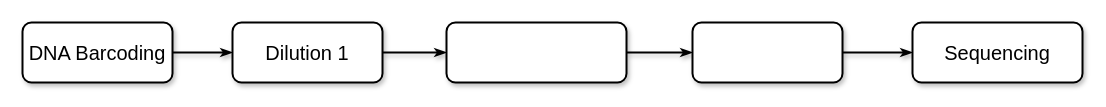
Image size: 1106x107. Some labels were removed from this diagram. The shapes that lost their labels are listed below. From the top down, each one's centre as x and y in pixels, then its label:
At [537,53]: "DNA Amplification".
At [768,53]: "Dilution 2".
